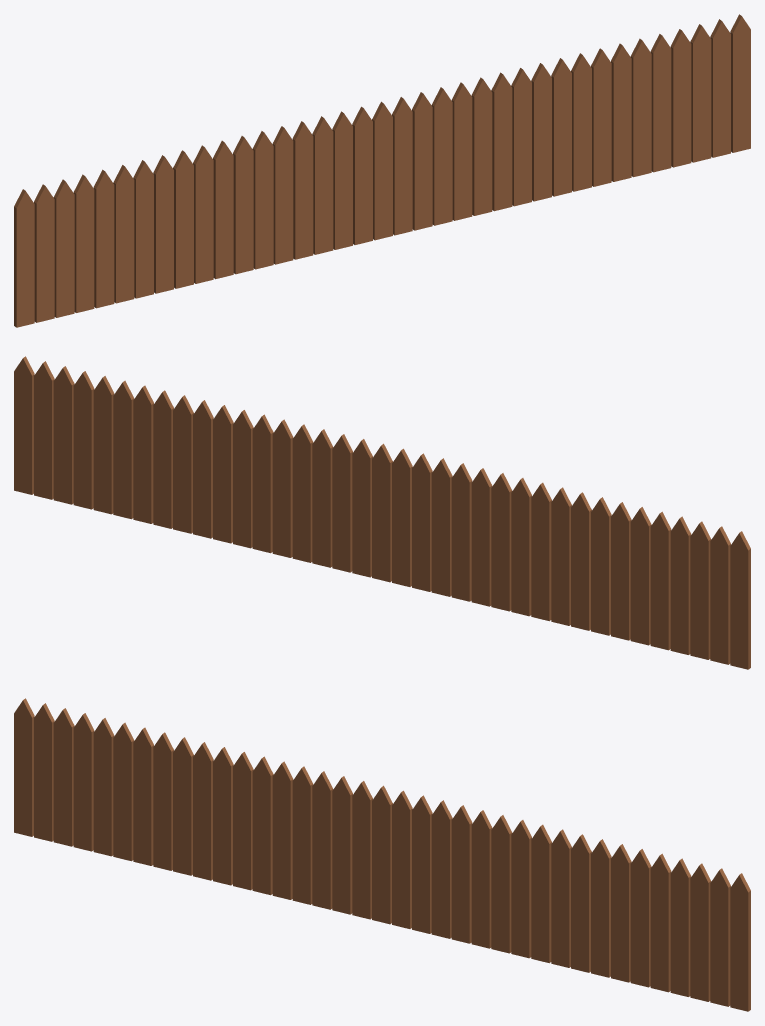
File: fence_left.fbx
The picture shows the model from 3 angles, top to bottom: view 1: azimuth 30°, elevation 25°; view 2: azimuth 150°, elevation 25°; view 3: azimuth 330°, elevation 25°; orthographic projection.
Parts seen in each view (by area): view 1: Cube.016; view 2: Cube.016; view 3: Cube.016.
Boxes of the visible parts, x1,y1,x2,y2 form: Cube.016: [14, 14, 750, 327]; Cube.016: [14, 356, 750, 669]; Cube.016: [14, 698, 750, 1011].
Bounding box in the file's own units: 570 × 99.94 × 3.61.
